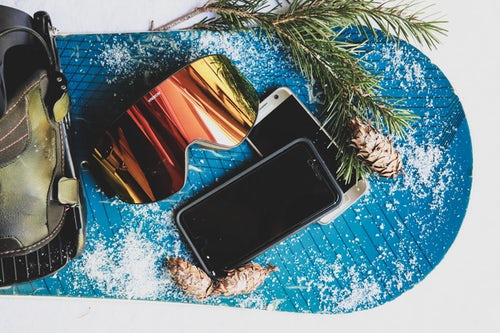phone: (174, 140, 343, 283), (241, 86, 371, 225)
